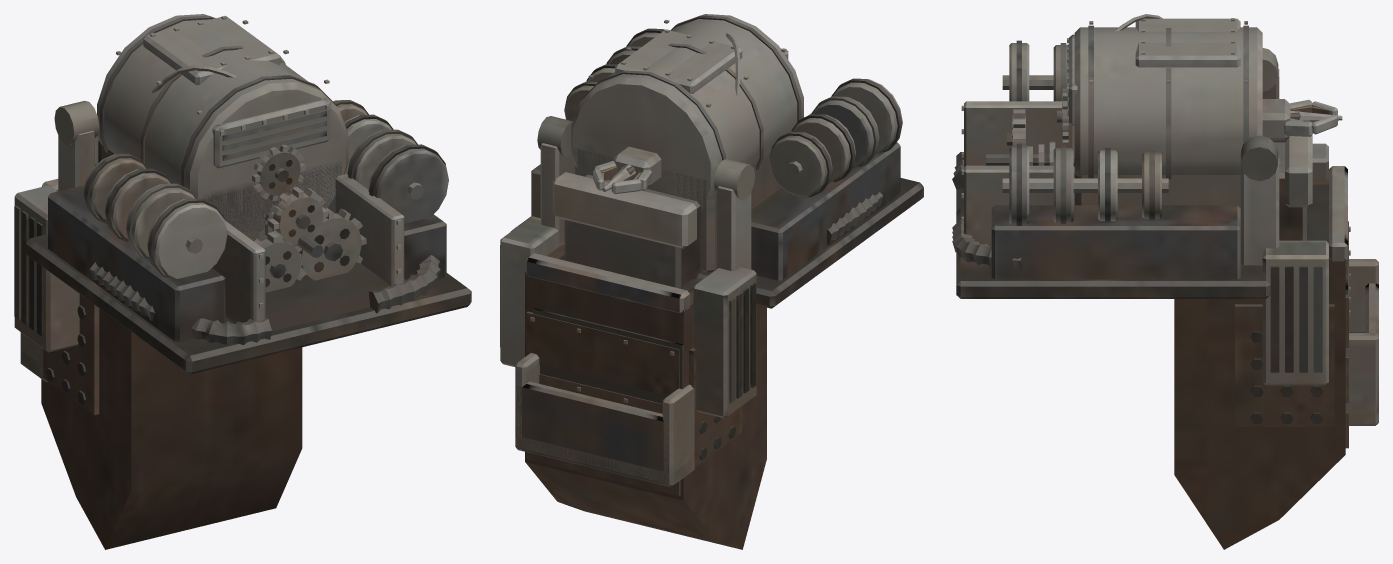
Rendered from asteroid-collector.glb.
3 views of the same model, side by side, from view 1: azimuth 30°, elevation 25°; view 2: azimuth 150°, elevation 25°; view 3: azimuth 270°, elevation 25° (orthographic). The views are drawn at different scales.
Parts seen in each view (by area): view 1: body; view 2: body, anim_reach_collector_head, anim_reach_collector_claw_l; view 3: body, anim_reach_collector_head, anim_reach_collector_claw_r.
Boxes of the visible parts, box(x1,y1,x2,y2) form: body: box(14, 14, 471, 549); body: box(500, 14, 923, 549); anim_reach_collector_head: box(602, 146, 661, 191); anim_reach_collector_claw_l: box(611, 169, 651, 193); body: box(952, 14, 1378, 549); anim_reach_collector_head: box(1262, 99, 1342, 142); anim_reach_collector_claw_r: box(1284, 114, 1337, 136).
Size of the model in its own units: 2.96 by 4.78 by 3.86.
Materials: 1 (1 with a texture image).
